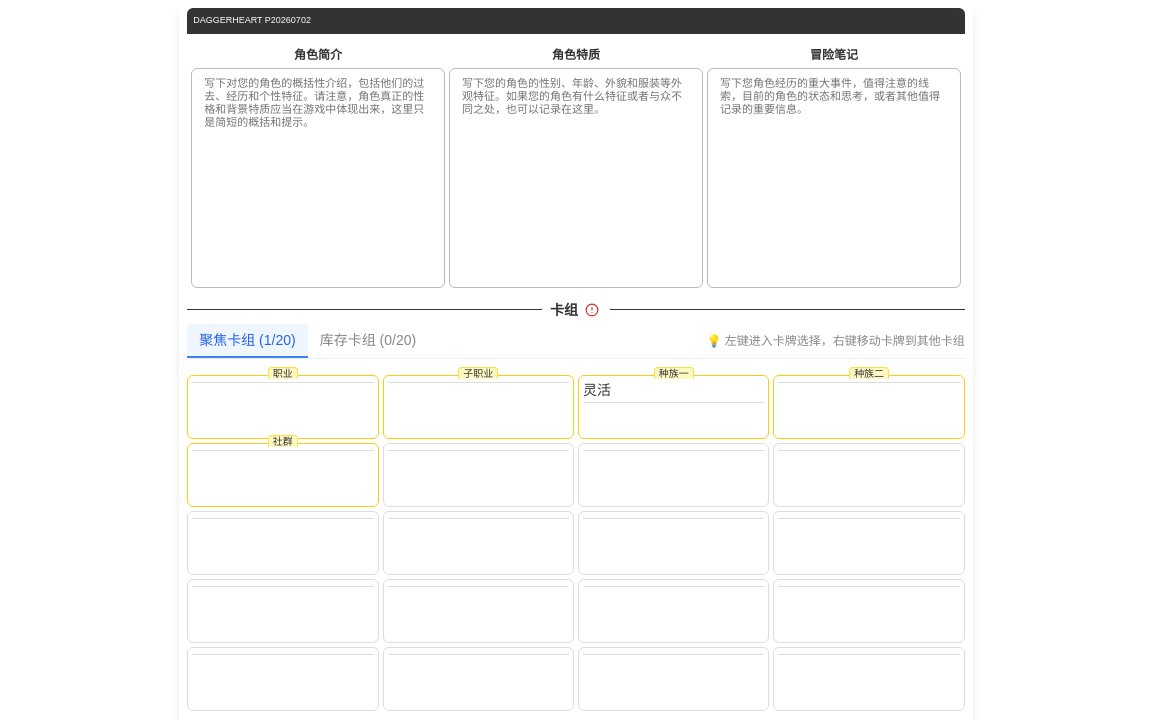
Test: CharacterSheet equipment fields › overwrites selected stale ancestry cards after manual audit confirmation
Click the button named "更新卡牌，有可更新项目" at (592, 310), box [582,300,602,320]
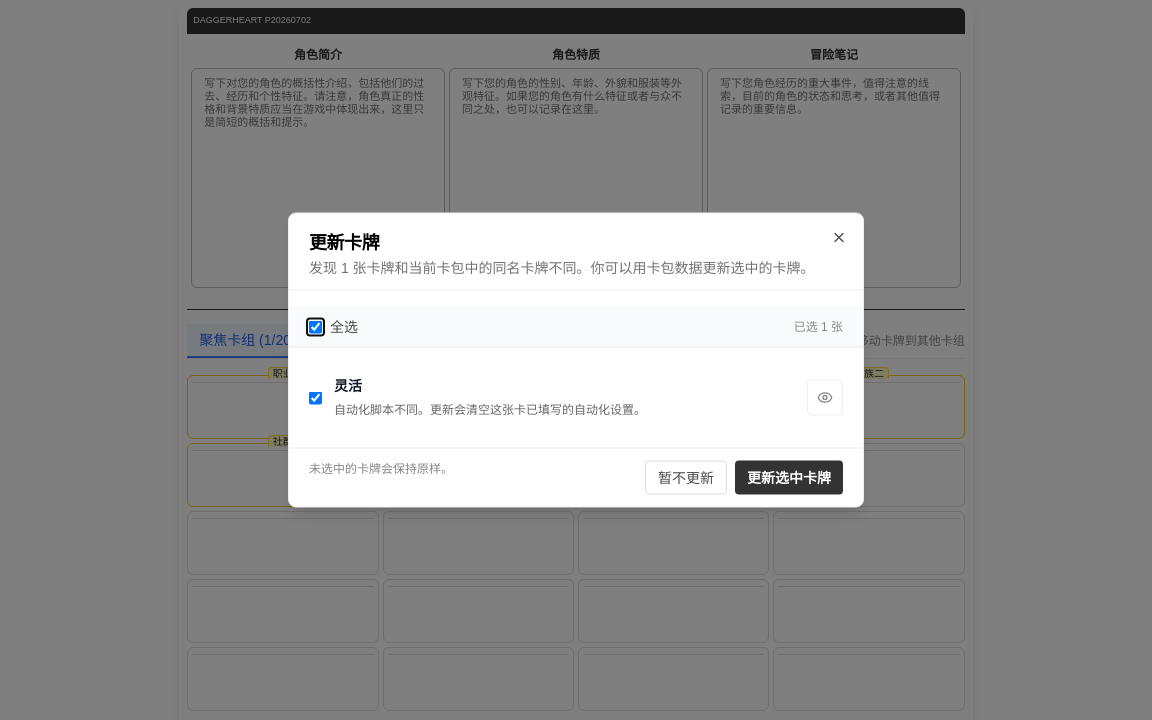
Click the button "更新选中卡牌" at (789, 478), box [735,460,843,494]
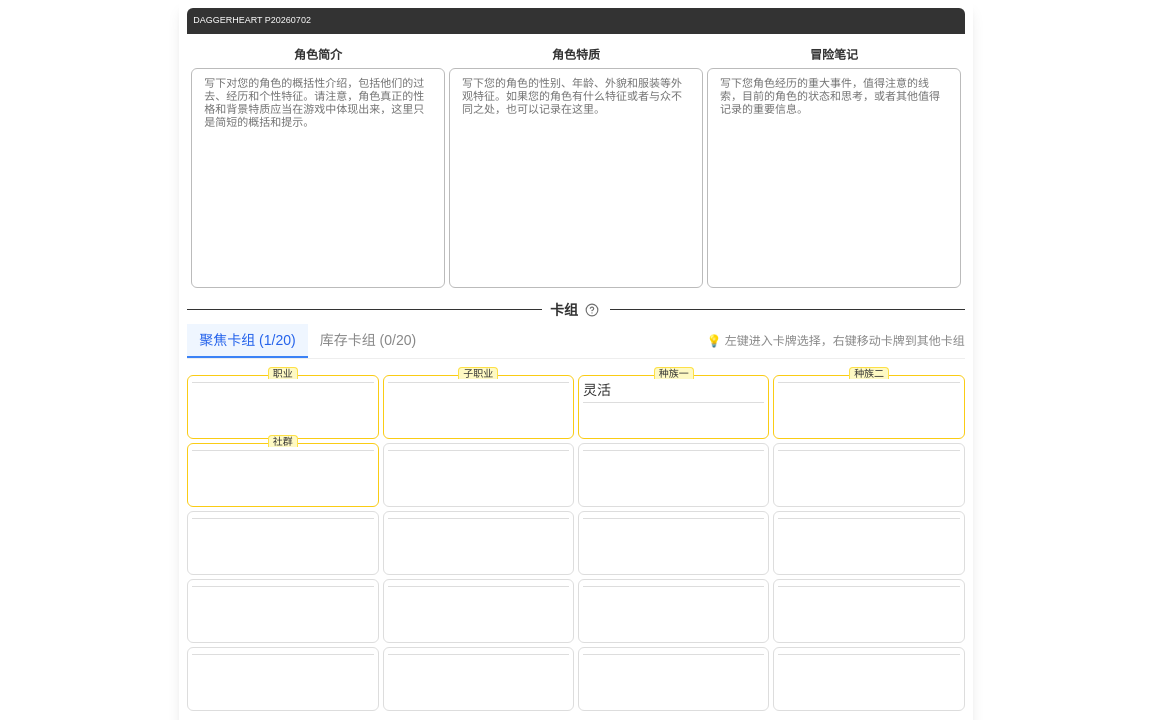
Expected: the heading "更新卡牌" is gone
